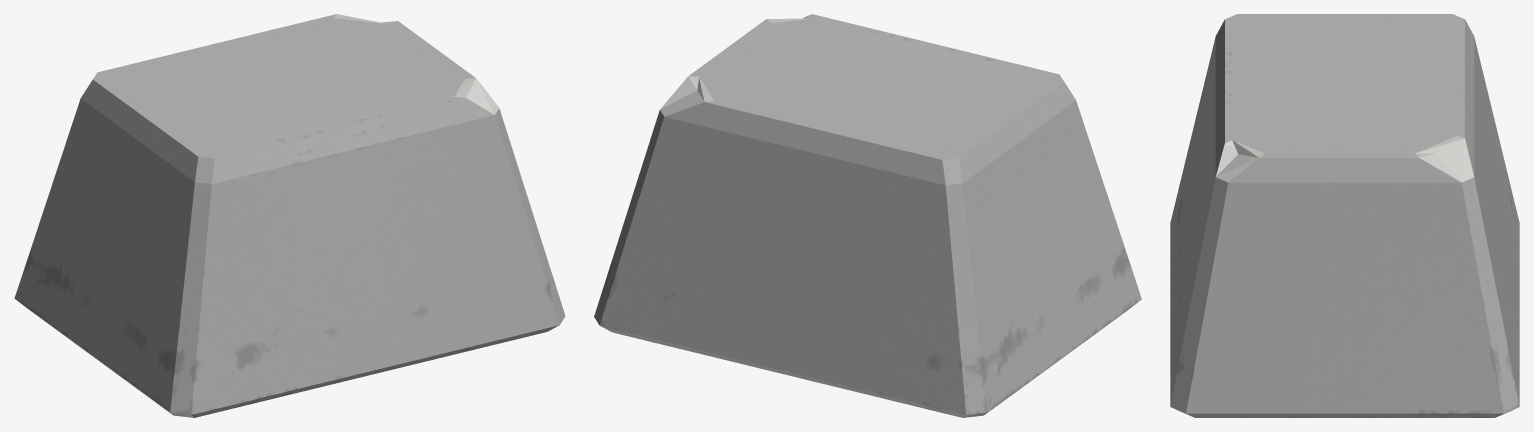
The model's file is river_erosion_block_small.glb.
3 views of the same model, side by side, from view 1: azimuth 30°, elevation 25°; view 2: azimuth 150°, elevation 25°; view 3: azimuth 270°, elevation 25° (orthographic). The views are drawn at different scales.
Visible parts, largest first — view 1: ErosionBlockSmall; view 2: ErosionBlockSmall; view 3: ErosionBlockSmall.
Part boxes in pixels (x1=…): ErosionBlockSmall: x1=14, y1=14, x2=565, y2=417; ErosionBlockSmall: x1=594, y1=14, x2=1141, y2=417; ErosionBlockSmall: x1=1170, y1=14, x2=1519, y2=417.
Size of what is drawn, in the model's own units: 0.8 by 0.45 by 0.6.
Materials: 1 (1 with a texture image).
